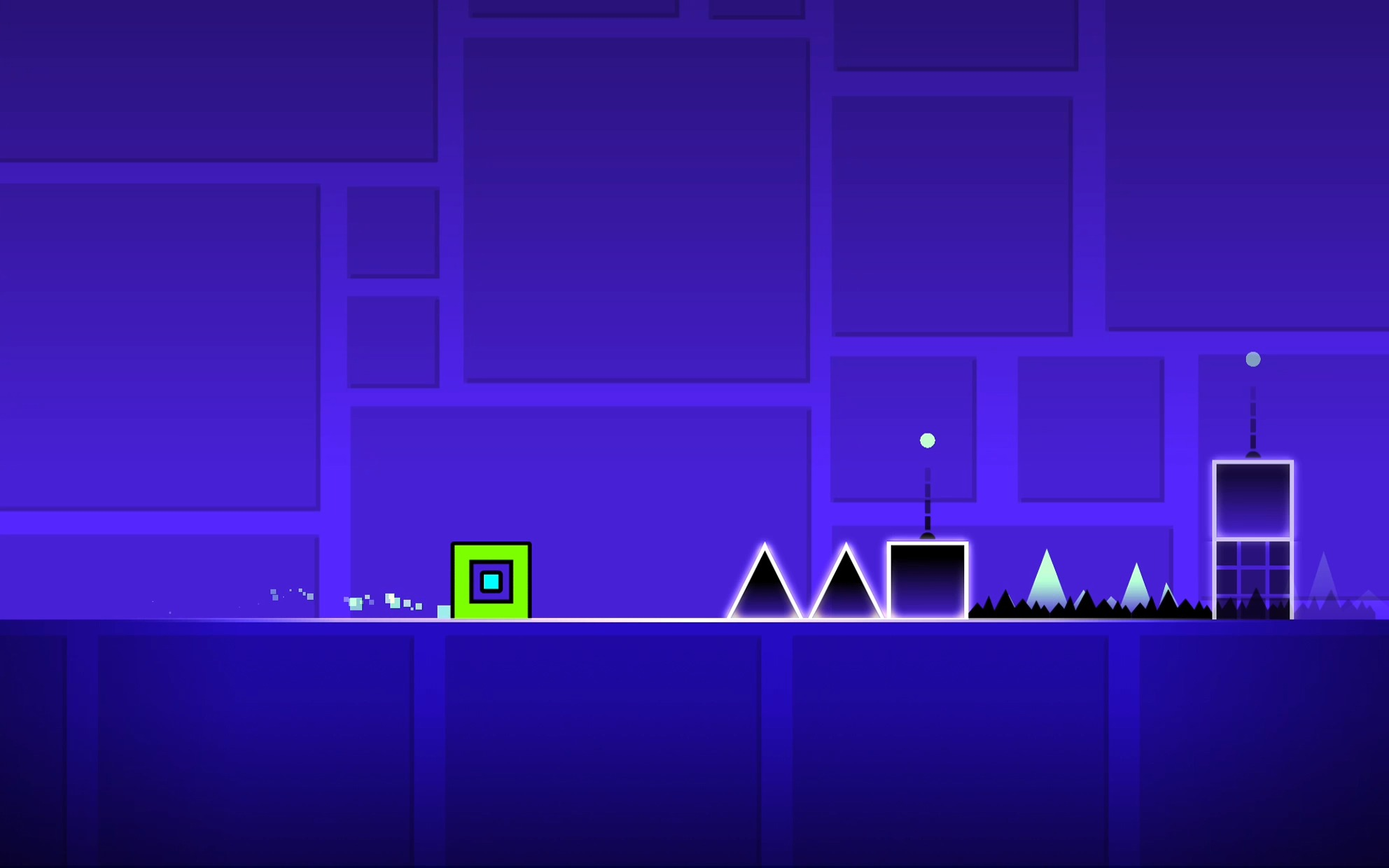Block: (884, 540, 970, 618), (1213, 460, 1293, 538)
Block2: (1215, 540, 1292, 619)
Player: (450, 542, 532, 617)
Spike: (726, 542, 802, 617), (809, 543, 885, 617)
Spike3: (971, 593, 1209, 620)
